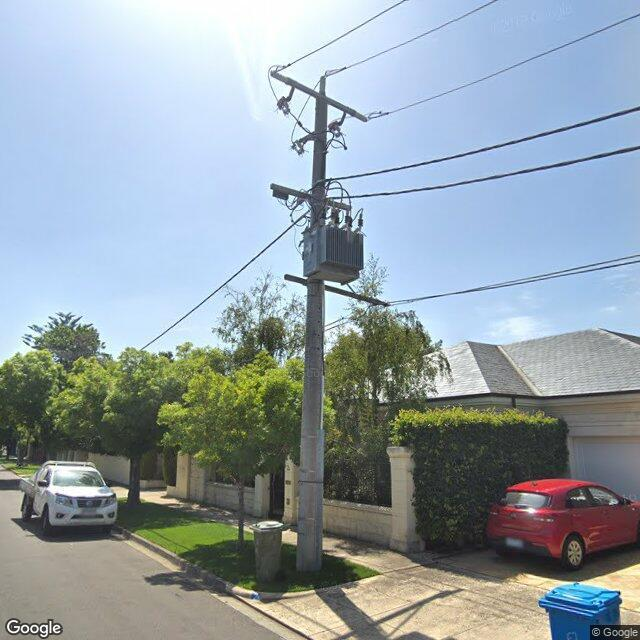HV-transmission: (268, 62, 390, 123)
concrete-pole: (296, 95, 329, 570)
crossarm: (283, 274, 390, 307), (288, 78, 354, 115), (270, 182, 353, 210)
transformer: (302, 208, 364, 286)
